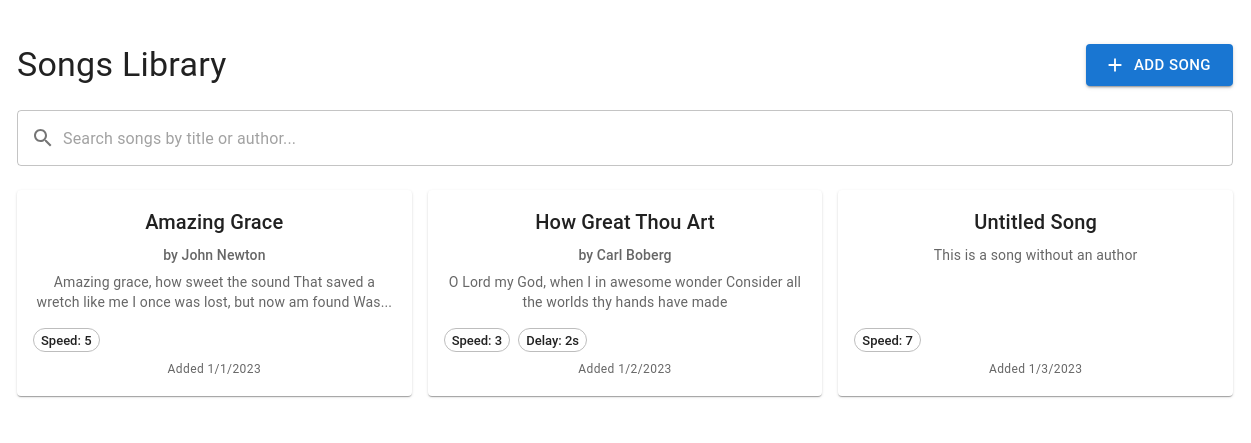
SongsListPage › Search Functionality › should be case insensitive
This screenshot has width=1251, height=443.
Type "AMAZING" into the field with placeholder "Search songs by title or author..." at x=648, y=138, box [63, 110, 1233, 166]
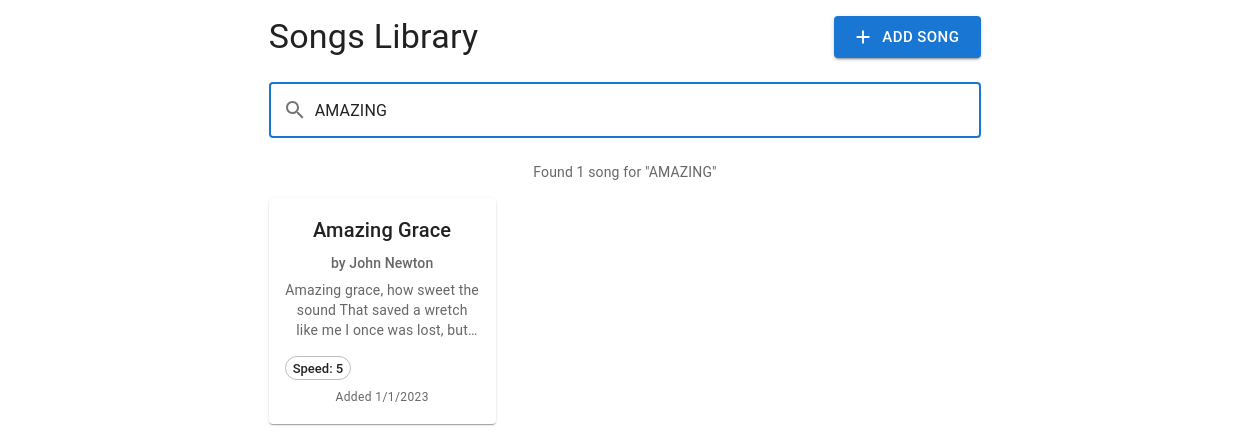
Expected: the heading "Amazing Grace" is shown, [313, 218, 451, 242]
Expected: the button "How Great Thou Art" is gone
